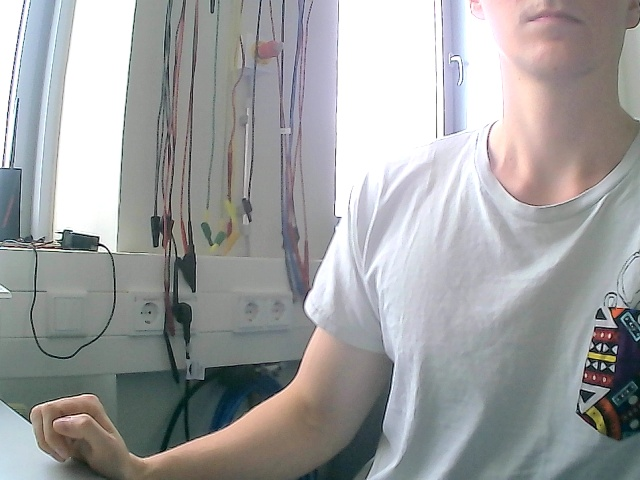no_gesture: (28, 392, 140, 479)
